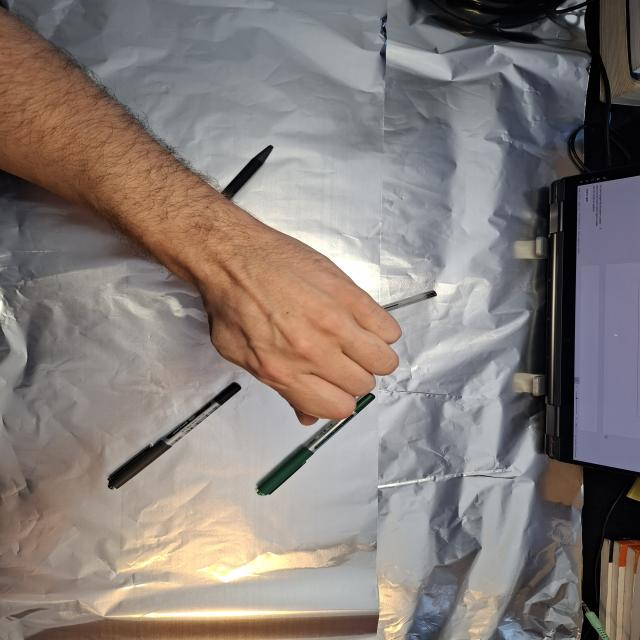glove_off: (200, 228, 405, 427)
